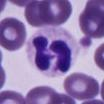N: (26, 33, 78, 76)
